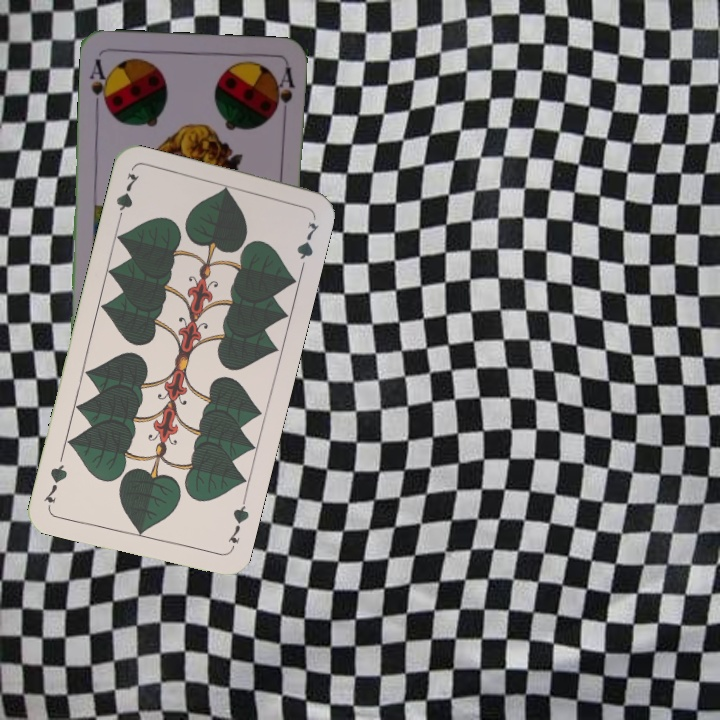G7: (112, 169, 142, 227), (223, 495, 252, 553)
SA: (86, 54, 113, 113)
